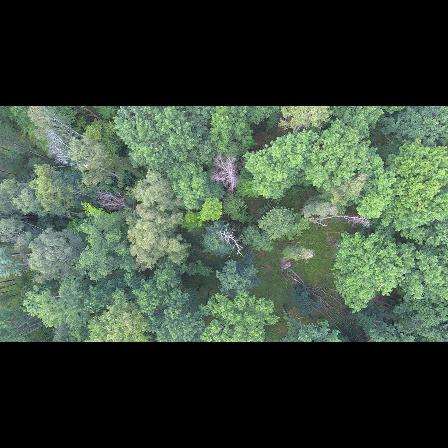Dead: (43, 125, 92, 161), (304, 209, 372, 231), (208, 153, 241, 194), (95, 184, 136, 214), (219, 224, 243, 259)
